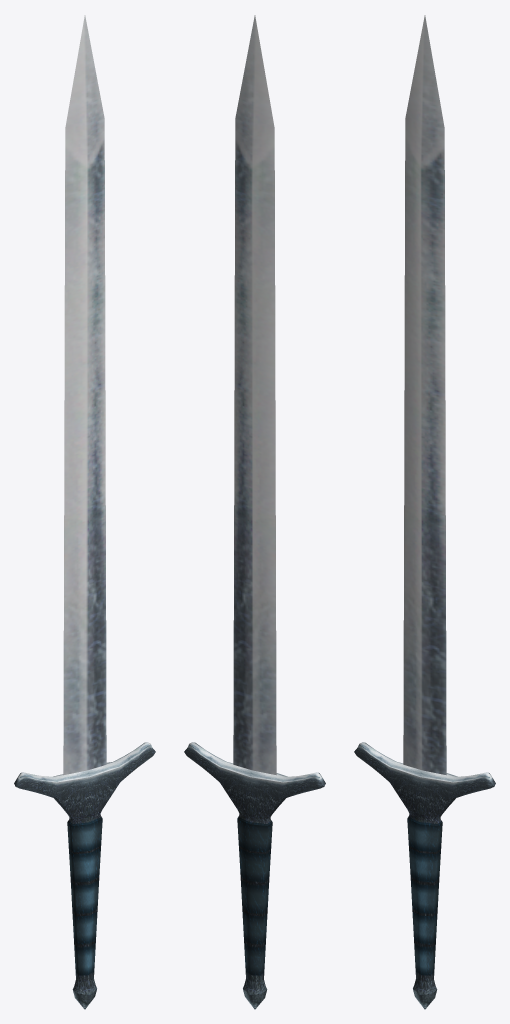
Rendered from Sword_2.fbx.
3 views of the same model, side by side, from view 1: azimuth 30°, elevation 25°; view 2: azimuth 150°, elevation 25°; view 3: azimuth 330°, elevation 25° (orthographic).
Visible parts, largest first — view 1: Sword_2; view 2: Sword_2; view 3: Sword_2.
Part boxes in pixels (<box>): Sword_2: <box>14,15,155,1009</box>; Sword_2: <box>184,15,325,1009</box>; Sword_2: <box>354,15,495,1009</box>.
Size of the model in its own units: 40.06 by 275 by 5.15.
